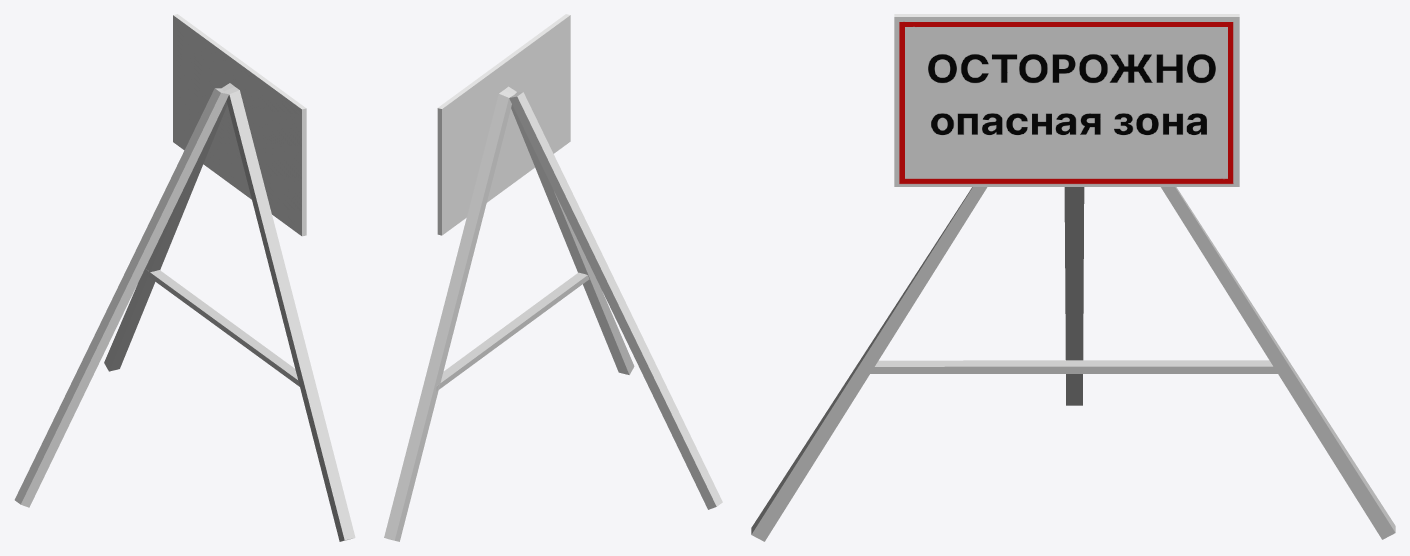
The model's file is Anshlag.fbx.
3 views of the same model, side by side, from view 1: azimuth 30°, elevation 25°; view 2: azimuth 150°, elevation 25°; view 3: azimuth 270°, elevation 25° (orthographic). The views are drawn at different scales.
Parts seen in each view (by area): view 1: Cube.002, Cube, Cube.004; view 2: Cube.002, Cube, Cube.004; view 3: Cube, Cube.002, Cube.004.
Boxes of the visible parts, x1=… form: Cube.002: x1=14, y1=83, x2=355, y2=541; Cube: x1=173, y1=14, x2=306, y2=236; Cube.004: x1=146, y1=269, x2=299, y2=386; Cube.002: x1=384, y1=86, x2=722, y2=541; Cube: x1=437, y1=14, x2=570, y2=235; Cube.004: x1=436, y1=272, x2=589, y2=391; Cube: x1=894, y1=14, x2=1239, y2=186; Cube.002: x1=751, y1=187, x2=1395, y2=541; Cube.004: x1=870, y1=360, x2=1277, y2=373.
Bounding box in the file's own units: 199 × 337 × 373.
